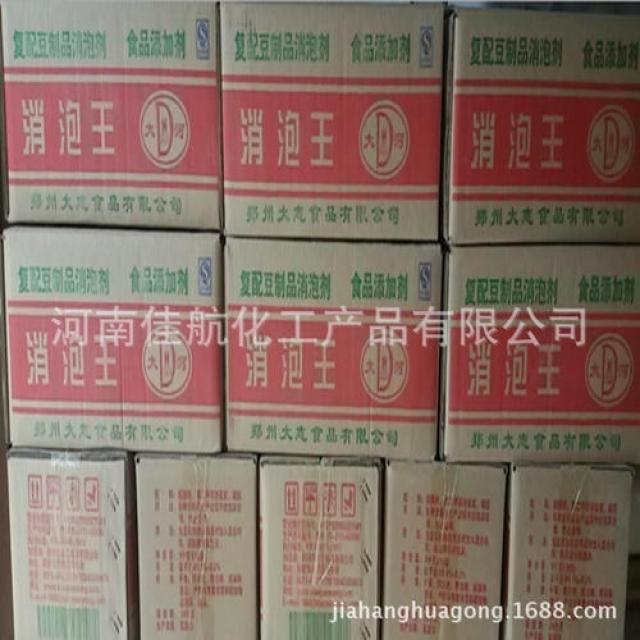box: (219, 1, 449, 242), (1, 223, 227, 452), (1, 1, 223, 232), (223, 233, 447, 461), (436, 8, 640, 246), (436, 244, 640, 465), (6, 451, 140, 639), (500, 461, 636, 640), (131, 452, 259, 640), (380, 458, 508, 640), (259, 454, 383, 640)
